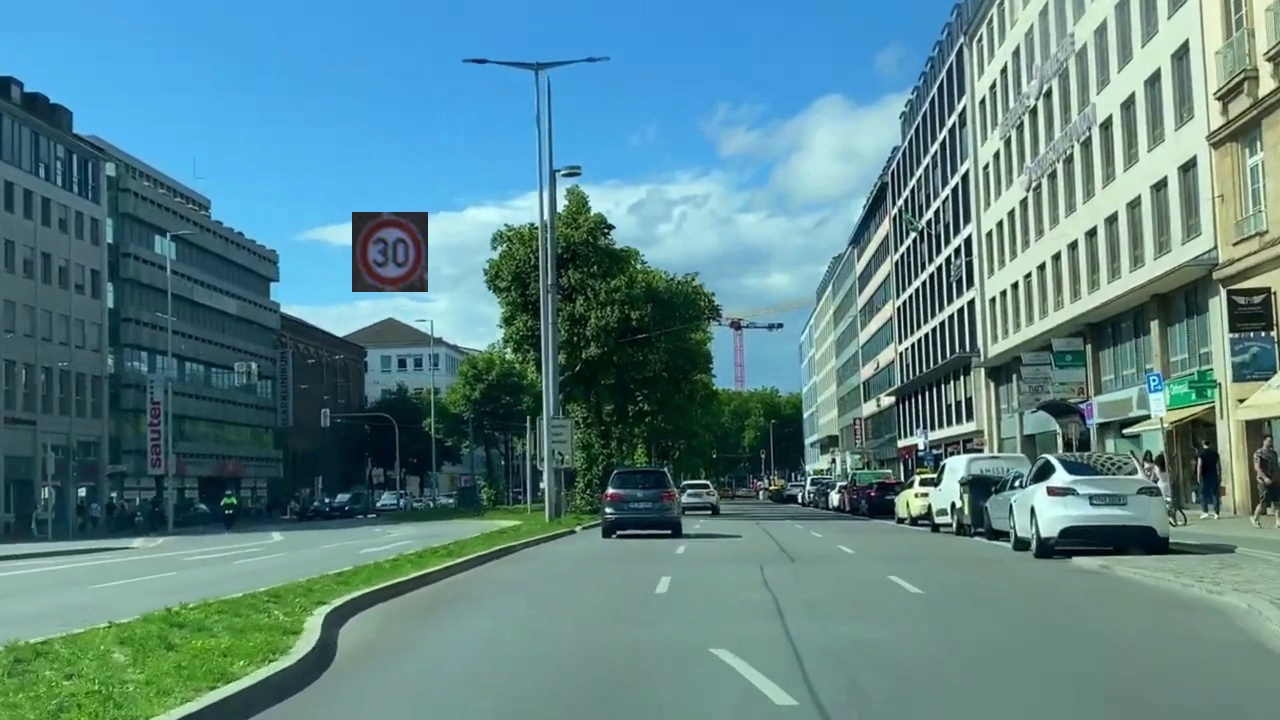Speed 30: (352, 212, 428, 292)
